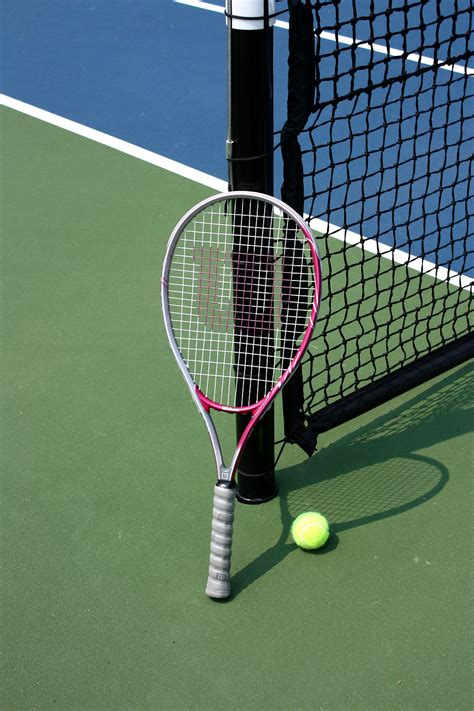tennis_ball: (290, 511, 329, 550)
